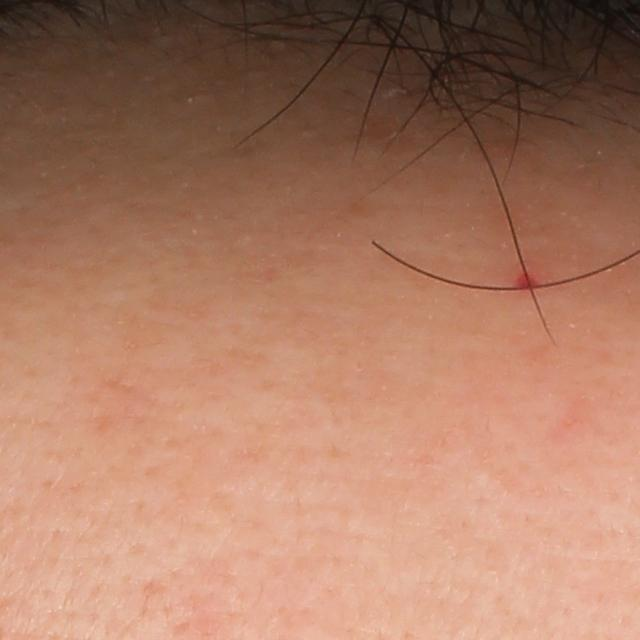other: (512, 264, 546, 298)
